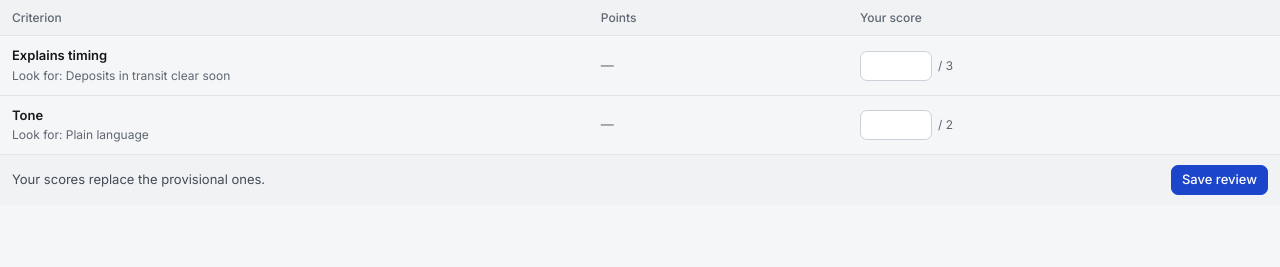
RubricReviewForm › submits score:<id> fields, shows Saving… and then the result
Later steps or results of the test are not shown.
In the number field named "Explains timing": coordinates (896, 66) top-left (860, 50), bottom-right (932, 80), type "2.5"
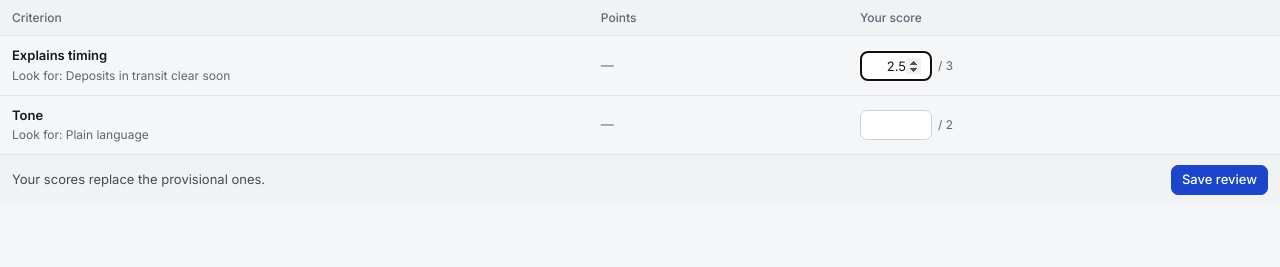
In the number field named "Tone": coordinates (896, 125) top-left (860, 110), bottom-right (932, 140), type "2"
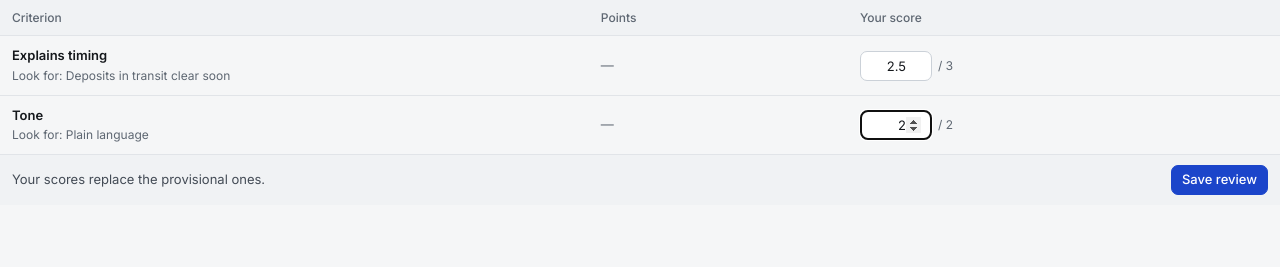
Click the button "Save review": coordinates (1220, 180) top-left (1171, 165), bottom-right (1268, 195)
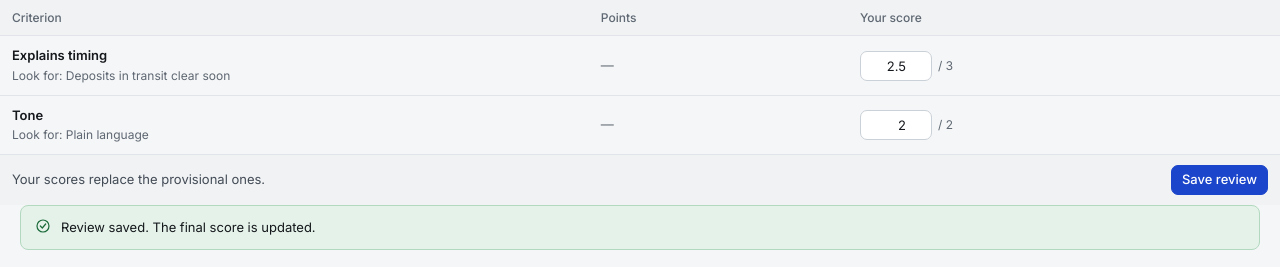
Expected: the text "Review saved. The final score is updated." is shown, top-left (61, 218), bottom-right (316, 237)
